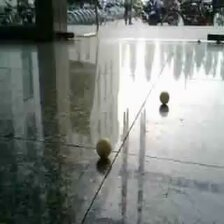w: (95, 137, 114, 159), (158, 90, 172, 104)
